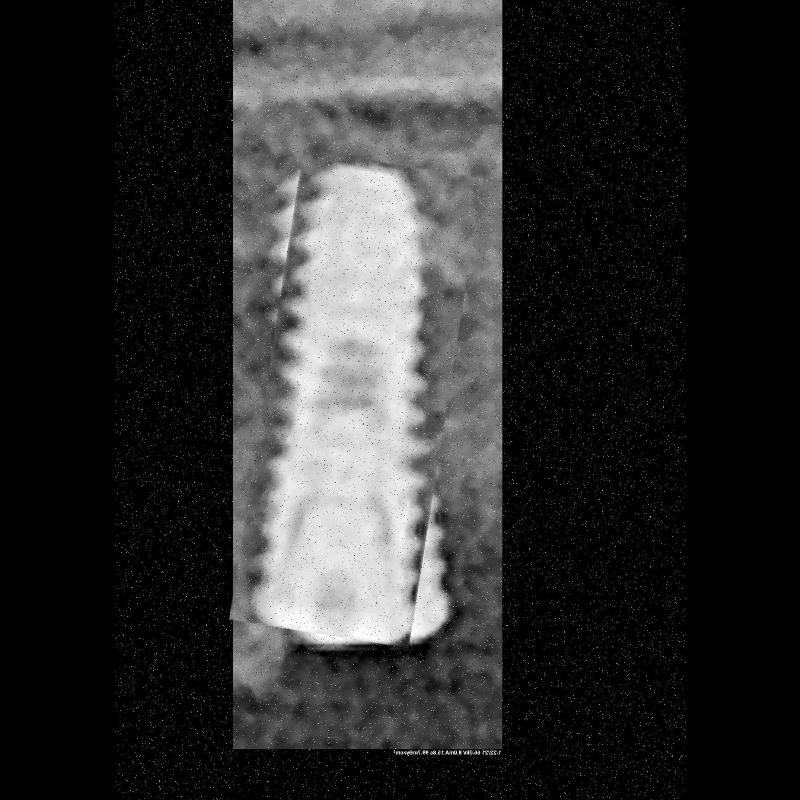osstem: (247, 156, 465, 642)
